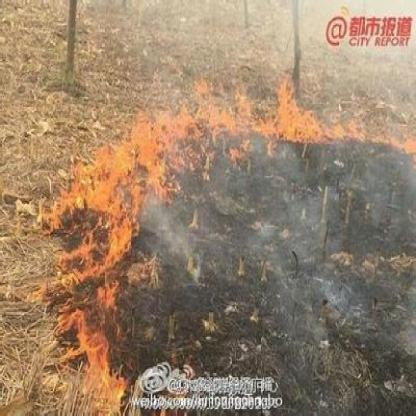fire: (50, 64, 264, 413), (273, 76, 414, 156)
other: (325, 0, 414, 49)
